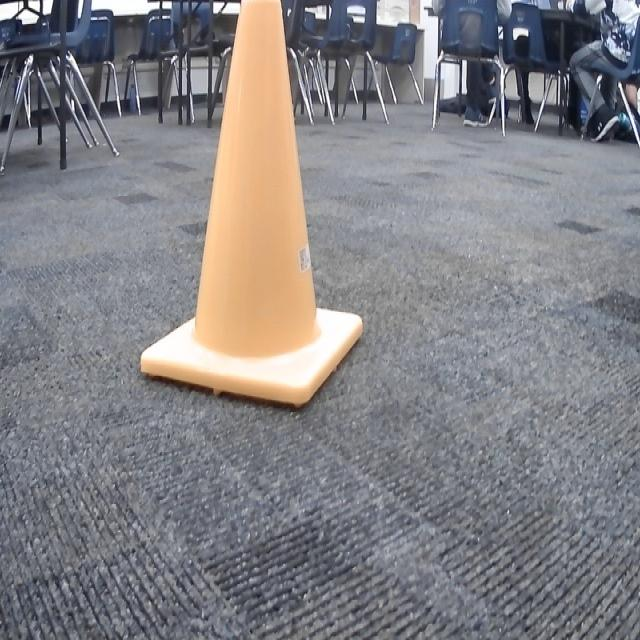cone: (136, 0, 367, 417)
